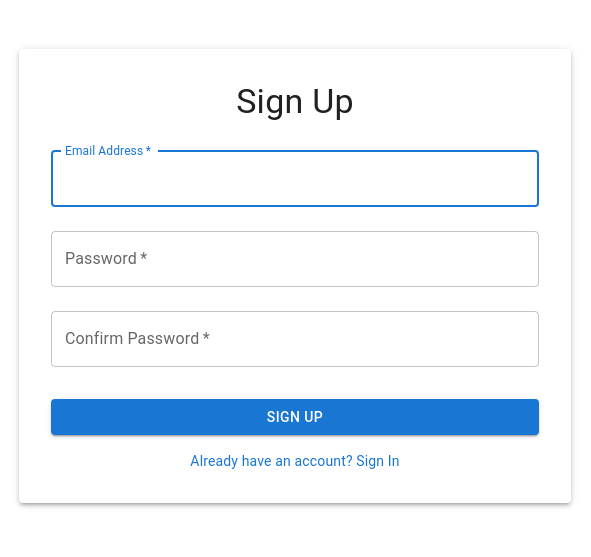
Test: RegisterPage › should validate password mismatch
Type "test@example.com" into the field labelled "Email Address" at (295,179), box [51, 151, 539, 207]
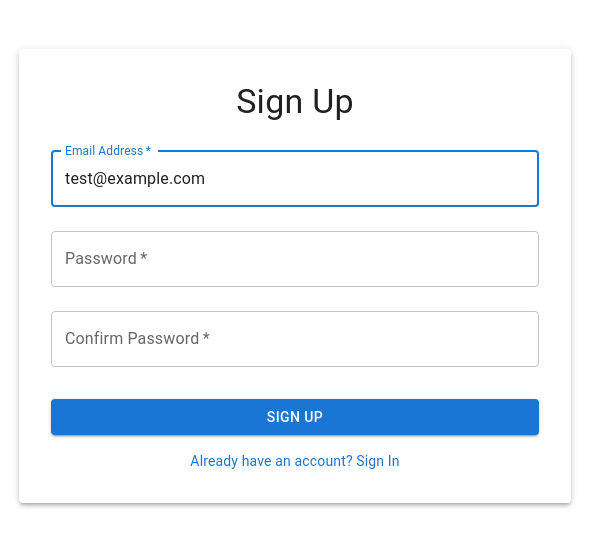
Type "password123" into the password field labelled "Password *" at (295,259), box [51, 231, 539, 287]
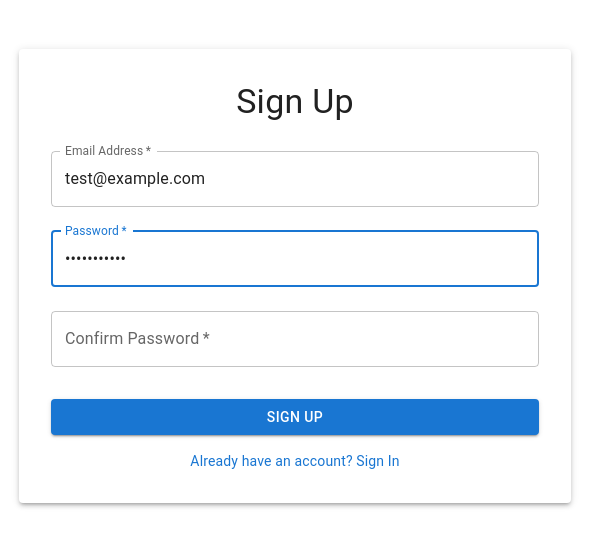
Type "differentpassword" into the password field labelled "Confirm Password *" at (295,339), box [51, 311, 539, 367]
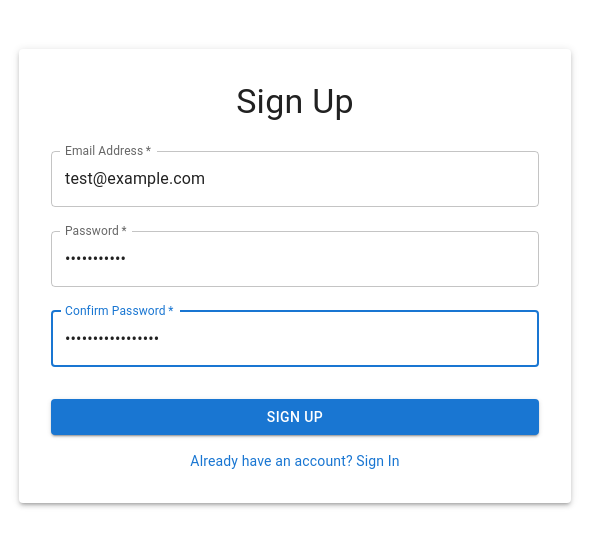
Click the button "Sign Up" at (295,417), box [51, 399, 539, 435]
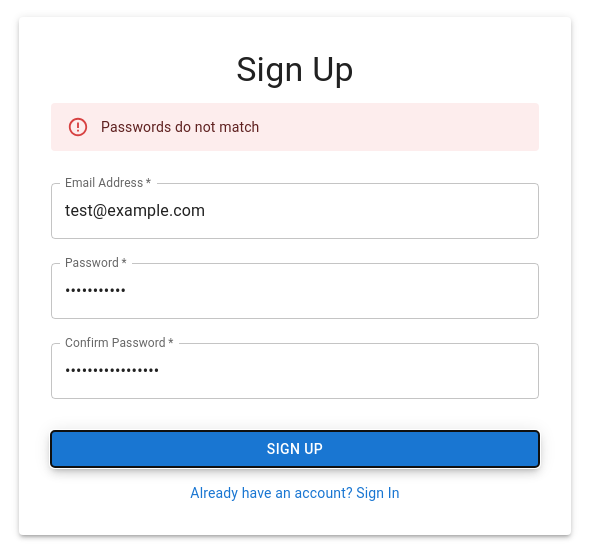
Expected: the text "Passwords do not match" is shown, [101, 119, 260, 135]
